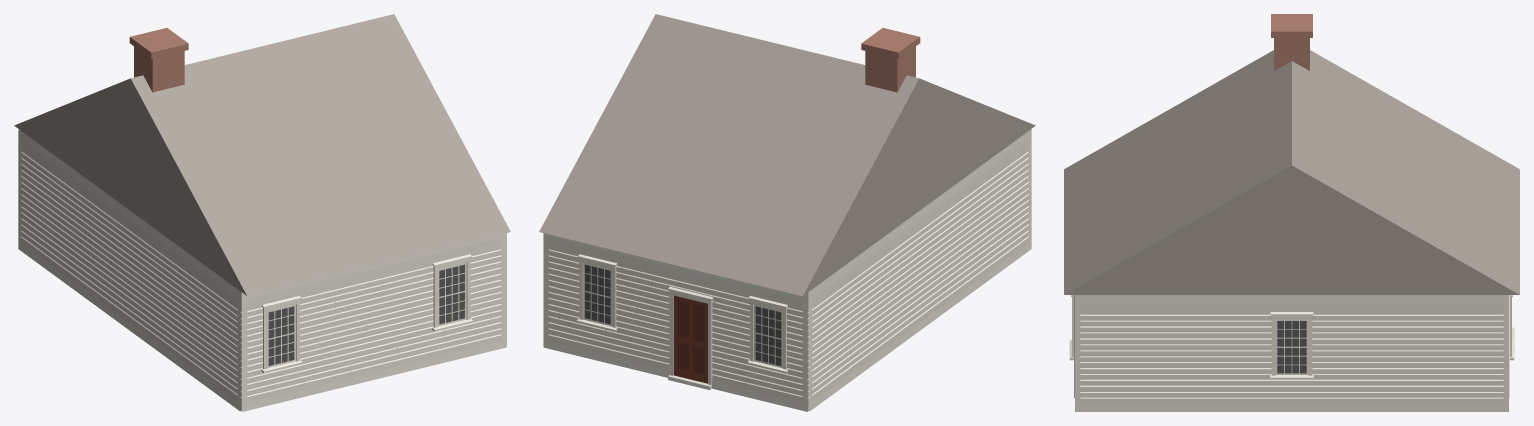
File: recon_1835_blk_west_randolph_canal_d5_01__inferred_1835.glb
3 views of the same model, side by side, from view 1: azimuth 30°, elevation 25°; view 2: azimuth 150°, elevation 25°; view 3: azimuth 270°, elevation 25° (orthographic). The views are drawn at different scales.
Parts seen in each view (by area): view 1: recon_1835_blk_west_randolph_canal_d5_01__inferred_1835; view 2: recon_1835_blk_west_randolph_canal_d5_01__inferred_1835; view 3: recon_1835_blk_west_randolph_canal_d5_01__inferred_1835.
Boxes of the visible parts, x1=… form: recon_1835_blk_west_randolph_canal_d5_01__inferred_1835: x1=14, y1=14, x2=510, y2=411; recon_1835_blk_west_randolph_canal_d5_01__inferred_1835: x1=539, y1=14, x2=1035, y2=411; recon_1835_blk_west_randolph_canal_d5_01__inferred_1835: x1=1064, y1=14, x2=1519, y2=411.
Bounding box in the file's own units: 7.06 × 7.08 × 10.59.
